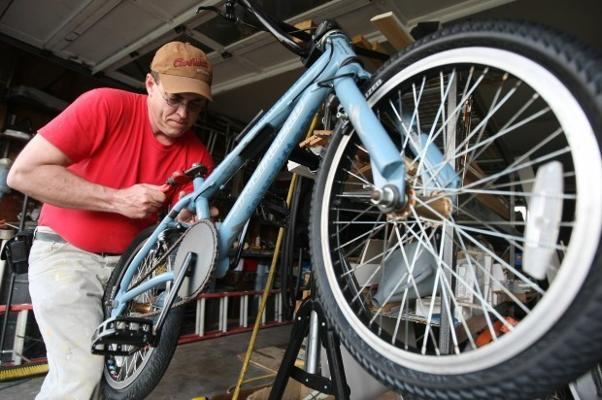person: (1, 41, 220, 397)
